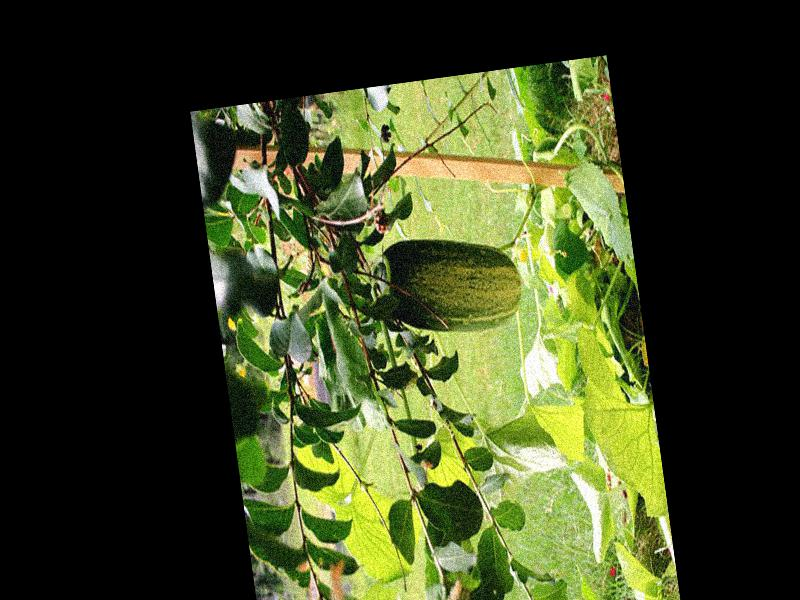Cucumber: (366, 224, 526, 341)
